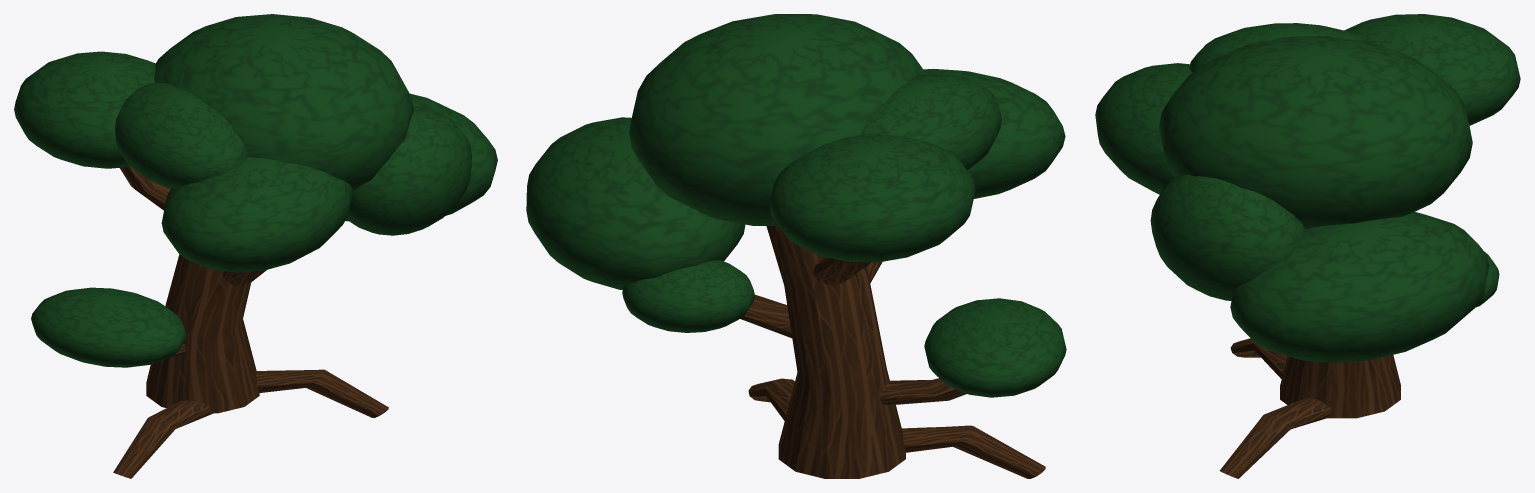
File: Tree.fbx
3 renders of one model, left to right at view 1: azimuth 30°, elevation 25°; view 2: azimuth 150°, elevation 25°; view 3: azimuth 270°, elevation 25°, orthographic. The views are drawn at different scales.
Parts seen in each view (by area): view 1: Tree; view 2: Tree; view 3: Tree.
Boxes of the visible parts, x1,y1,x2,y2 form: Tree: [14, 14, 497, 478]; Tree: [526, 14, 1066, 478]; Tree: [1095, 14, 1520, 478].
Size of the model in its own units: 13.2 by 10.52 by 10.22.
